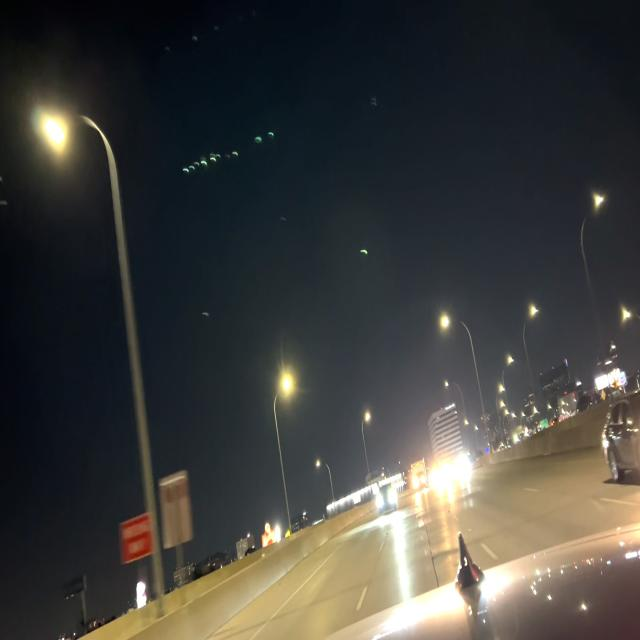back-of-sign: (159, 468, 195, 553)
